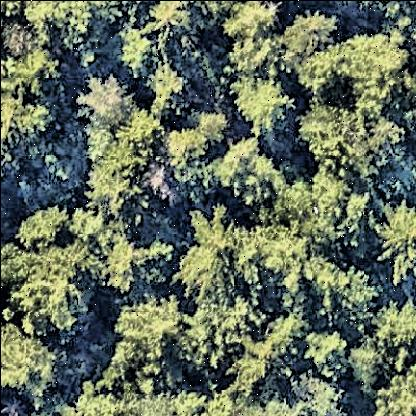tree-top: (4, 241, 92, 340), (296, 33, 411, 107), (265, 174, 375, 251), (289, 249, 385, 331), (173, 213, 256, 305), (299, 109, 404, 181), (1, 51, 63, 149), (113, 297, 186, 376), (29, 1, 119, 63), (61, 377, 199, 416), (215, 135, 281, 207), (226, 377, 347, 416), (223, 73, 293, 139), (2, 330, 66, 402), (225, 337, 297, 394), (102, 229, 162, 293), (339, 336, 393, 405), (252, 225, 311, 285), (276, 11, 342, 63), (375, 201, 416, 278), (105, 26, 167, 76), (83, 162, 138, 216), (368, 304, 416, 357), (218, 2, 281, 42), (363, 369, 416, 416), (144, 71, 193, 118), (82, 80, 132, 126), (223, 38, 283, 76), (166, 127, 210, 178), (146, 2, 202, 40), (310, 329, 352, 379), (18, 209, 67, 251), (4, 21, 35, 63)
